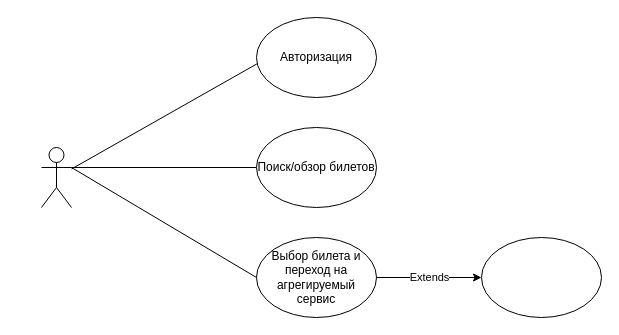
The diagram is 619 pixels wide and 335 high, and some of its shapes have lost their labels. The centre of each missing label's shape, as x and y in pixels:
"Пользователь" belongs at point 56,177.
"Сортировка/фильтрация билетов" belongs at point 541,277.
